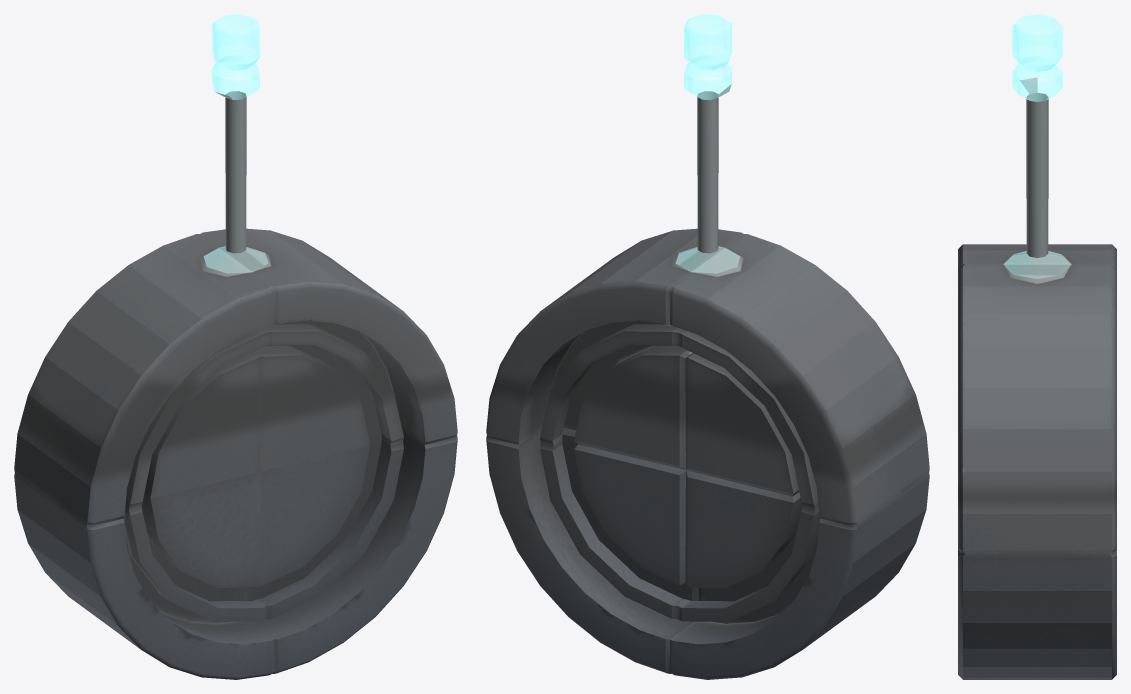
Rendered from SM_Switch_handle.fbx.
3 views of the same model, side by side, from view 1: azimuth 30°, elevation 25°; view 2: azimuth 150°, elevation 25°; view 3: azimuth 270°, elevation 25° (orthographic).
Parts seen in each view (by area): view 1: SwitchHandle; view 2: SwitchHandle; view 3: SwitchHandle.
Part boxes in pixels (x1,y1,x2,y2): SwitchHandle: [14, 14, 457, 679]; SwitchHandle: [486, 14, 929, 679]; SwitchHandle: [958, 14, 1116, 679].
Size of what is drawn, in the model's own units: 0.9912 by 1.6 by 0.3614.
